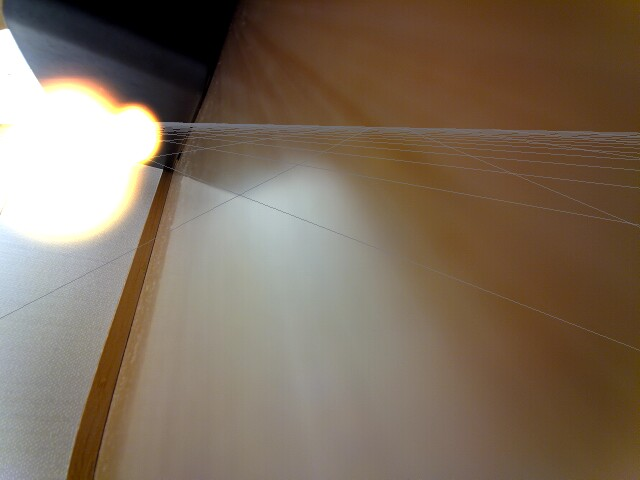firebig: (0, 55, 121, 251)
